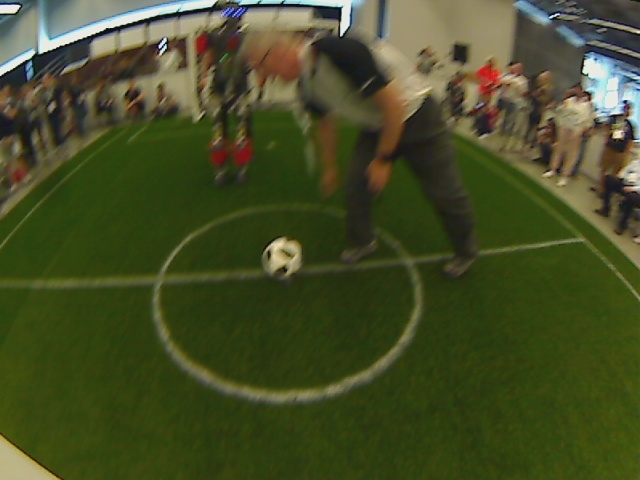ball: (260, 234, 307, 282)
